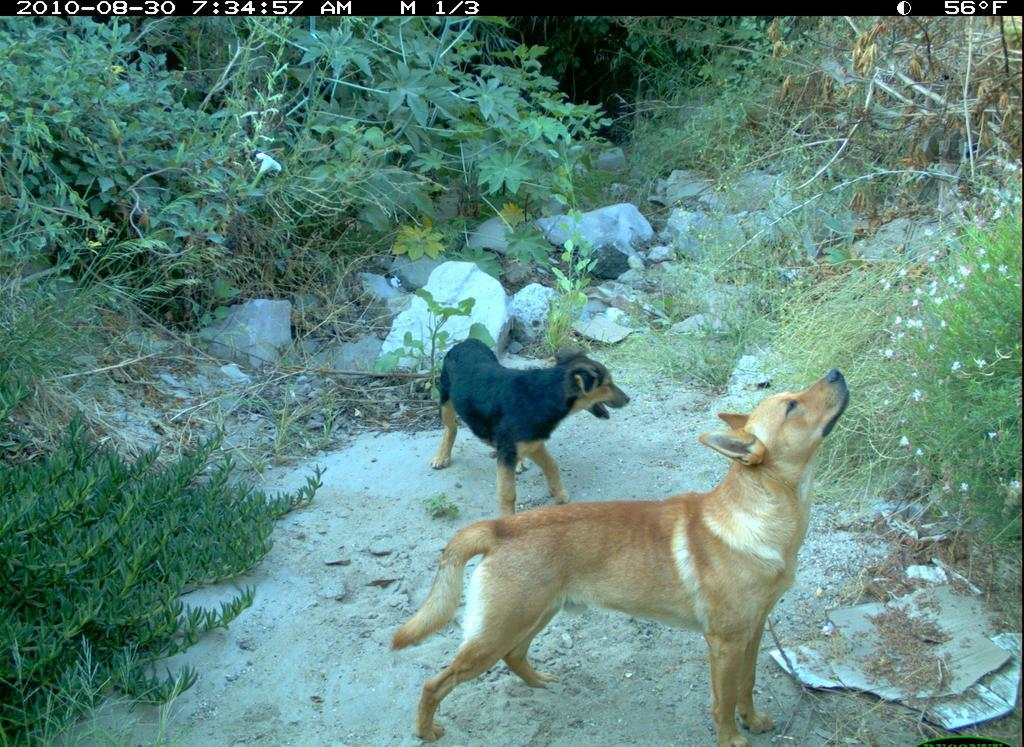dog: (378, 363, 859, 747), (427, 326, 633, 525)
